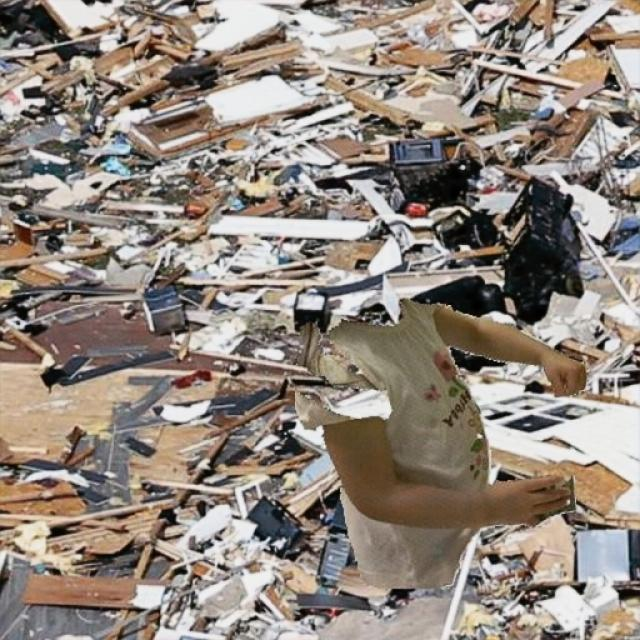Person in Rubble: (294, 298, 588, 588)
